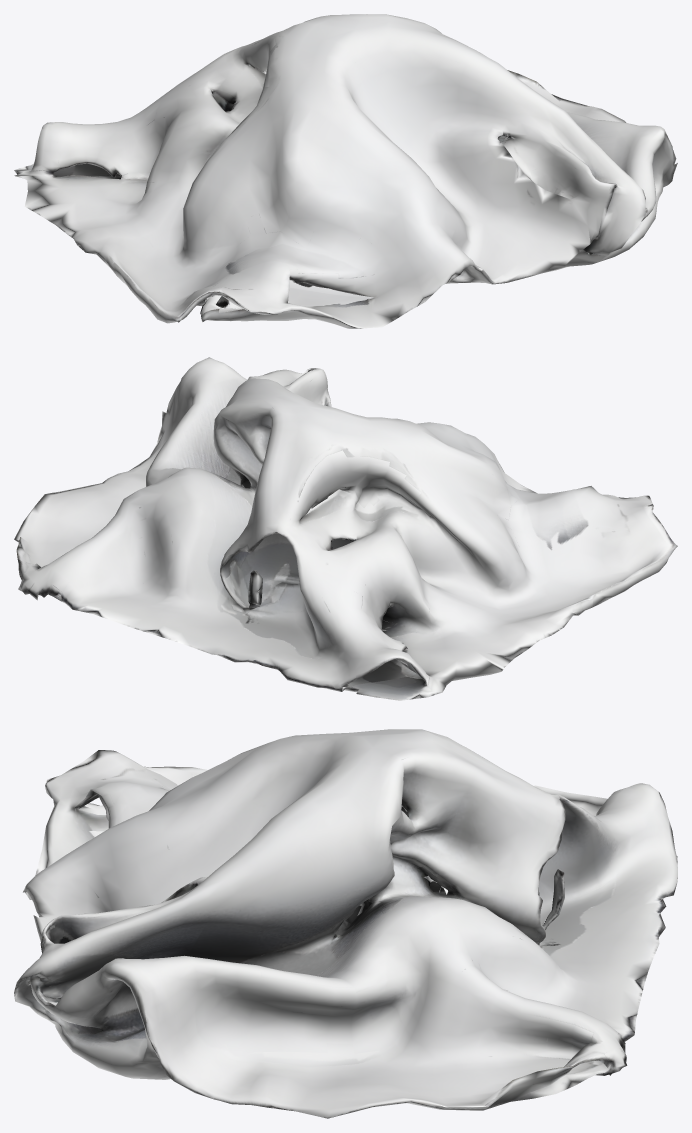
File: Meshy_AI_buruşmuş_peçete_0102212411_texture.fbx
3 views of the same model, one above another, from view 1: azimuth 30°, elevation 25°; view 2: azimuth 150°, elevation 25°; view 3: azimuth 270°, elevation 25° (orthographic). The views are drawn at different scales.
Parts seen in each view (by area): view 1: Mesh0; view 2: Mesh0; view 3: Mesh0.
Boxes of the visible parts, <box> form: Mesh0: <box>14,14,677,328</box>; Mesh0: <box>14,357,677,700</box>; Mesh0: <box>14,729,677,1118</box>.
Bounding box in the file's own units: 189 × 58.43 × 159.
1 material, 1 textured.
